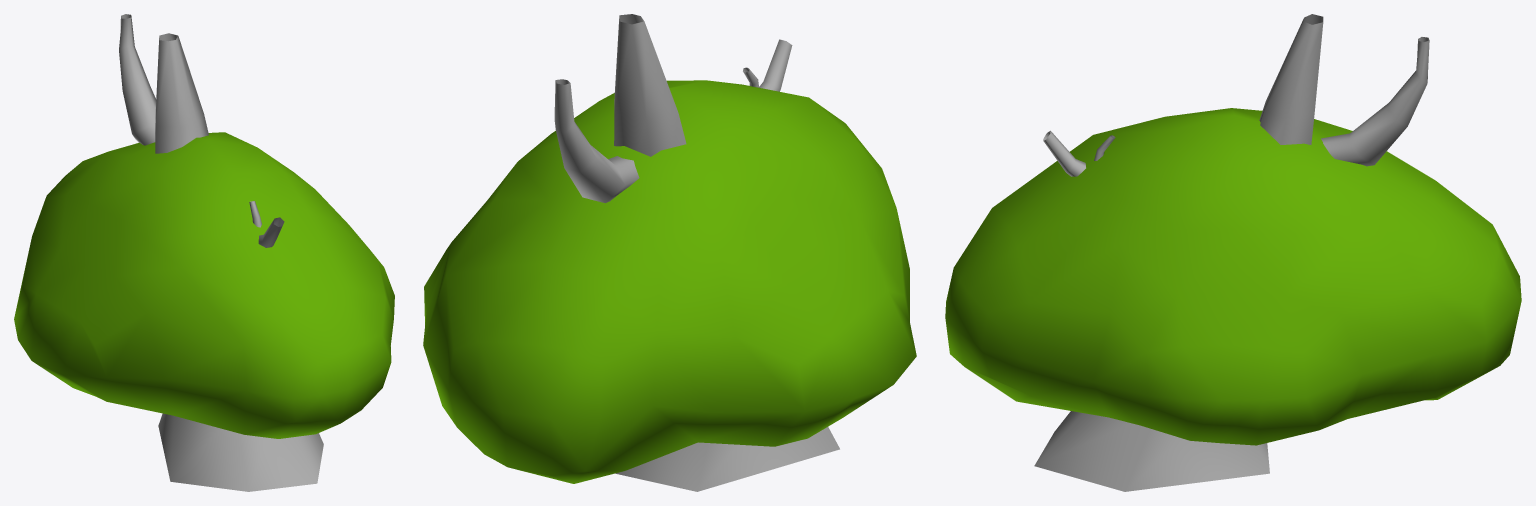
Rendered from Tree01_low.fbx.
The picture shows the model from 3 angles, left to right: view 1: azimuth 30°, elevation 25°; view 2: azimuth 150°, elevation 25°; view 3: azimuth 270°, elevation 25°; orthographic projection. The views are drawn at different scales.
Parts seen in each view (by area): view 1: TreeTop01_low, TreeTrunk01_low; view 2: TreeTop01_low, TreeTrunk01_low; view 3: TreeTop01_low, TreeTrunk01_low.
Boxes of the visible parts, x1,y1,x2,y2 form: TreeTop01_low: (14,132,394,438); TreeTrunk01_low: (119,14,323,491); TreeTop01_low: (423,80,916,483); TreeTrunk01_low: (554,14,839,491); TreeTop01_low: (945,108,1521,445); TreeTrunk01_low: (1034,14,1429,491).
Bounding box in the file's own units: 14.01 × 14.62 × 17.78.
